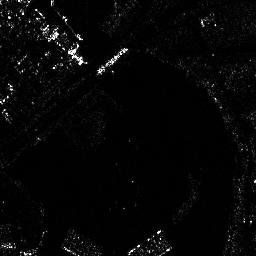ship: (52, 3, 82, 40), (96, 47, 129, 74)
